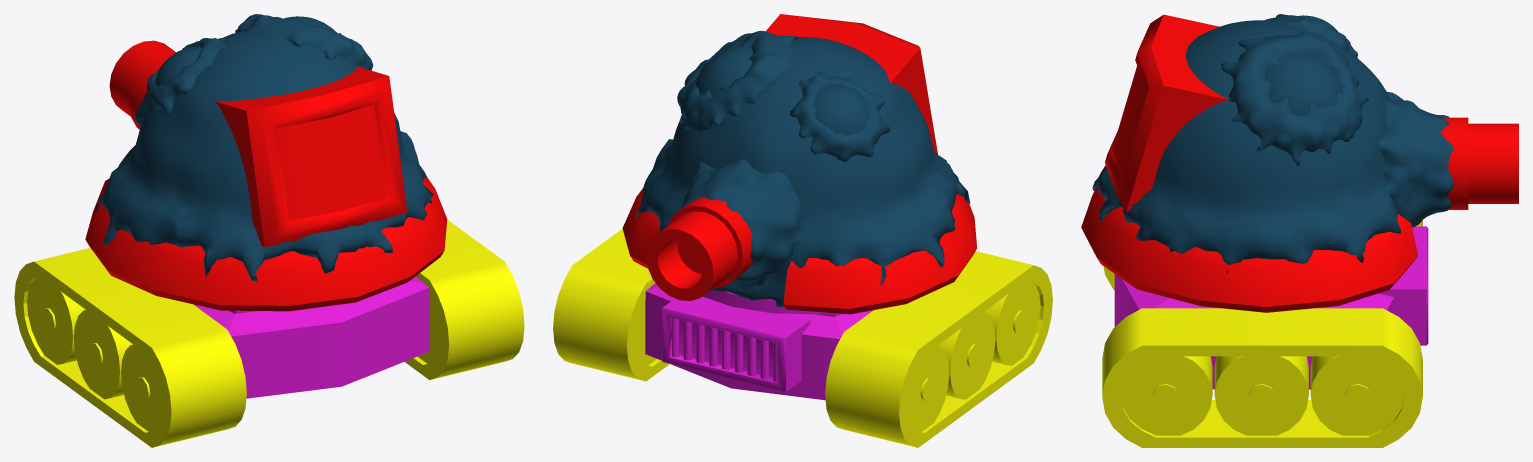
Rendered from Mesh_EnemyGruntBasic_Ranged LP.fbx.
3 renders of one model, left to right at view 1: azimuth 30°, elevation 25°; view 2: azimuth 150°, elevation 25°; view 3: azimuth 270°, elevation 25°, orthographic. The views are drawn at different scales.
Visible parts, largest first — view 1: polySurface4, Tracks, Back_Pannel, Upper_Half, Body, Wheels, Barrel, Eye_L, Wheel_Bolts, Barrel_ring; view 2: polySurface4, Tracks, Upper_Half, Wheels, Grate_Shell, polySurface3, Barrel, Body, Back_Pannel, Grate_bars, Eye_L, Barrel_ring (+3 smaller); view 3: polySurface4, Tracks, Wheels, Upper_Half, Back_Pannel, polySurface3, Barrel, Eye_R, Grate_Shell, Body, Barrel_ring, Wheel_Bolts.
Part boxes in pixels (x1,y1,x2,y2): polySurface4: (94, 14, 433, 281); Tracks: (14, 220, 524, 447); Back_Pannel: (216, 66, 407, 247); Upper_Half: (85, 177, 447, 311); Body: (193, 276, 429, 398); Wheels: (27, 276, 439, 431); Barrel: (109, 40, 175, 116); Eye_L: (155, 46, 201, 85); Wheel_Bolts: (41, 308, 150, 400); Barrel_ring: (129, 54, 173, 129); polySurface4: (635, 31, 970, 306); Tracks: (553, 229, 1052, 447); Upper_Half: (622, 188, 977, 314); Wheels: (635, 280, 1040, 431); Grate_Shell: (662, 296, 810, 391); polySurface3: (681, 159, 802, 290); Barrel: (646, 211, 737, 300); Body: (645, 283, 873, 400); Back_Pannel: (766, 14, 937, 154); Grate_bars: (671, 318, 776, 381); Eye_L: (813, 86, 868, 135); Barrel_ring: (667, 197, 752, 288); polySurface4: (1092, 14, 1400, 273); Tracks: (1102, 221, 1422, 447); Wheels: (1120, 356, 1404, 435); Upper_Half: (1081, 187, 1418, 312); Back_Pannel: (1105, 14, 1227, 211); polySurface3: (1378, 91, 1453, 227); Barrel: (1468, 123, 1518, 203); Eye_R: (1264, 52, 1342, 115); Grate_Shell: (1379, 226, 1428, 345); Body: (1114, 274, 1393, 389); Barrel_ring: (1441, 117, 1468, 209); Wheel_Bolts: (1152, 383, 1370, 407).
Bounding box in the file's own units: 280 × 249 × 295.
